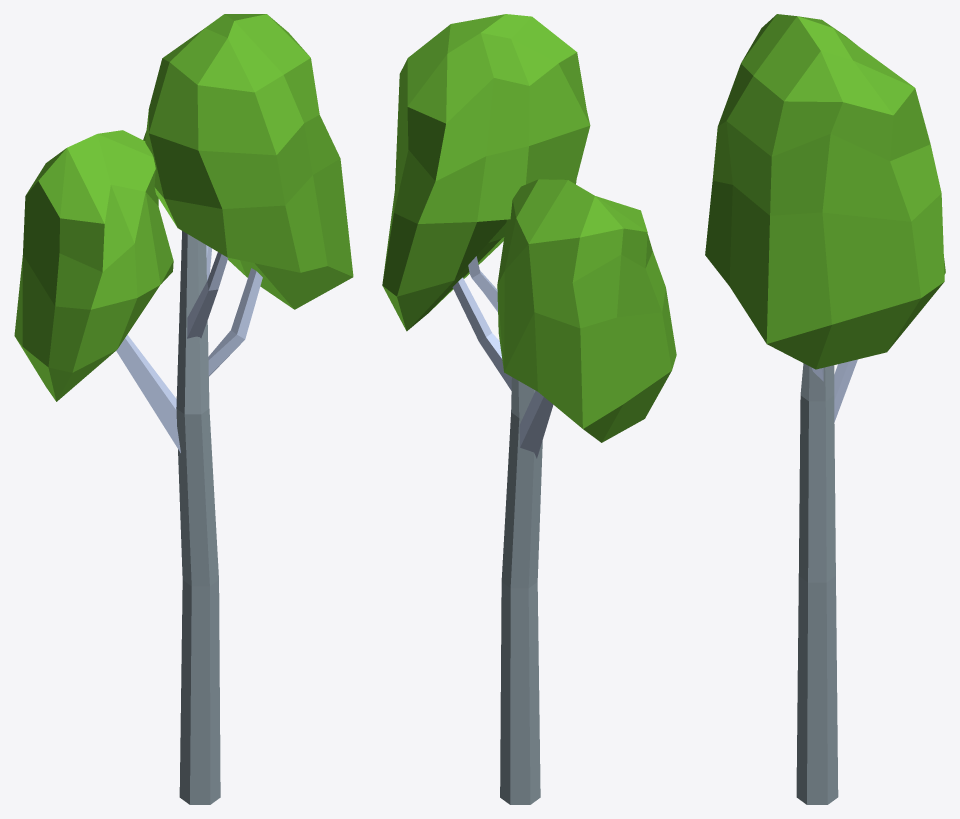
Rendered from Birch_small.fbx.
The picture shows the model from 3 angles, left to right: view 1: azimuth 30°, elevation 25°; view 2: azimuth 150°, elevation 25°; view 3: azimuth 270°, elevation 25°; orthographic projection. The views are drawn at different scales.
Parts seen in each view (by area): view 1: birch_Small; view 2: birch_Small; view 3: birch_Small.
Part boxes in pixels (bbox=[...]): birch_Small: bbox=[14, 14, 353, 804]; birch_Small: bbox=[382, 14, 676, 804]; birch_Small: bbox=[705, 14, 945, 804].
Bounding box in the file's own units: 60.37 × 160 × 43.95.
